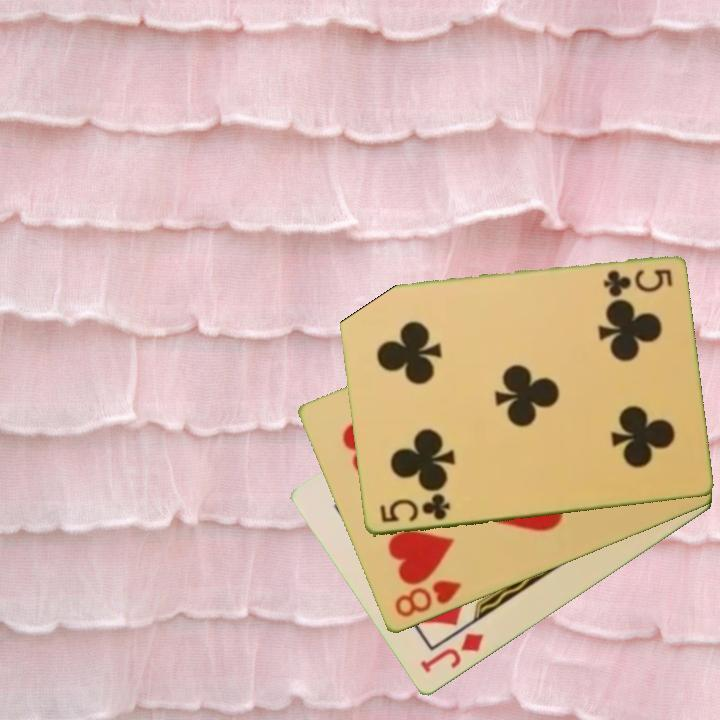5c: (376, 490, 452, 526), (599, 266, 675, 297)
8h: (390, 577, 464, 621)
Jd: (416, 630, 487, 677)
